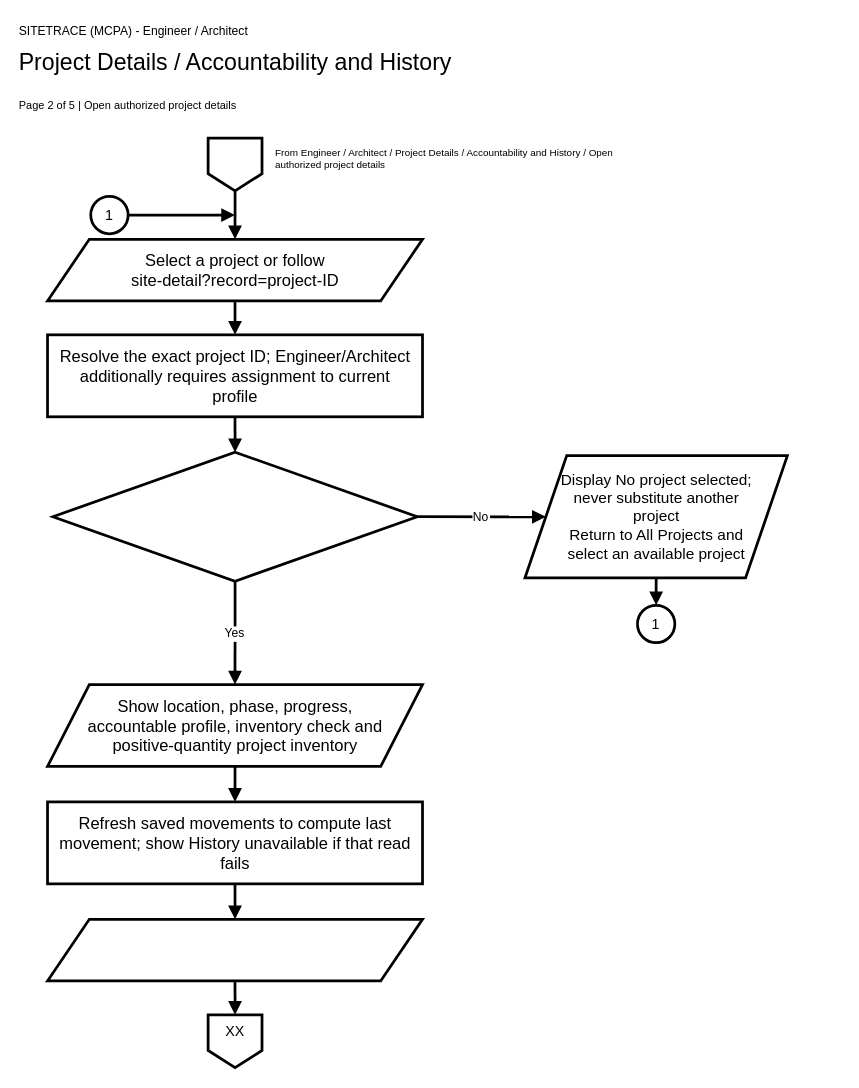
The diagram is 859 pixels wide and 1088 high, and some of its shapes have lost their labels. The shapes that lost their labels are listed below. From the top down, each one's box as (x1, y1, x2, y2) in pixels, then its label:
(206, 136, 263, 192): KY
(51, 450, 418, 582): The requested project is available and authorized?
(46, 917, 423, 982): Project accountability and inventory are displayed without editing equipment.
